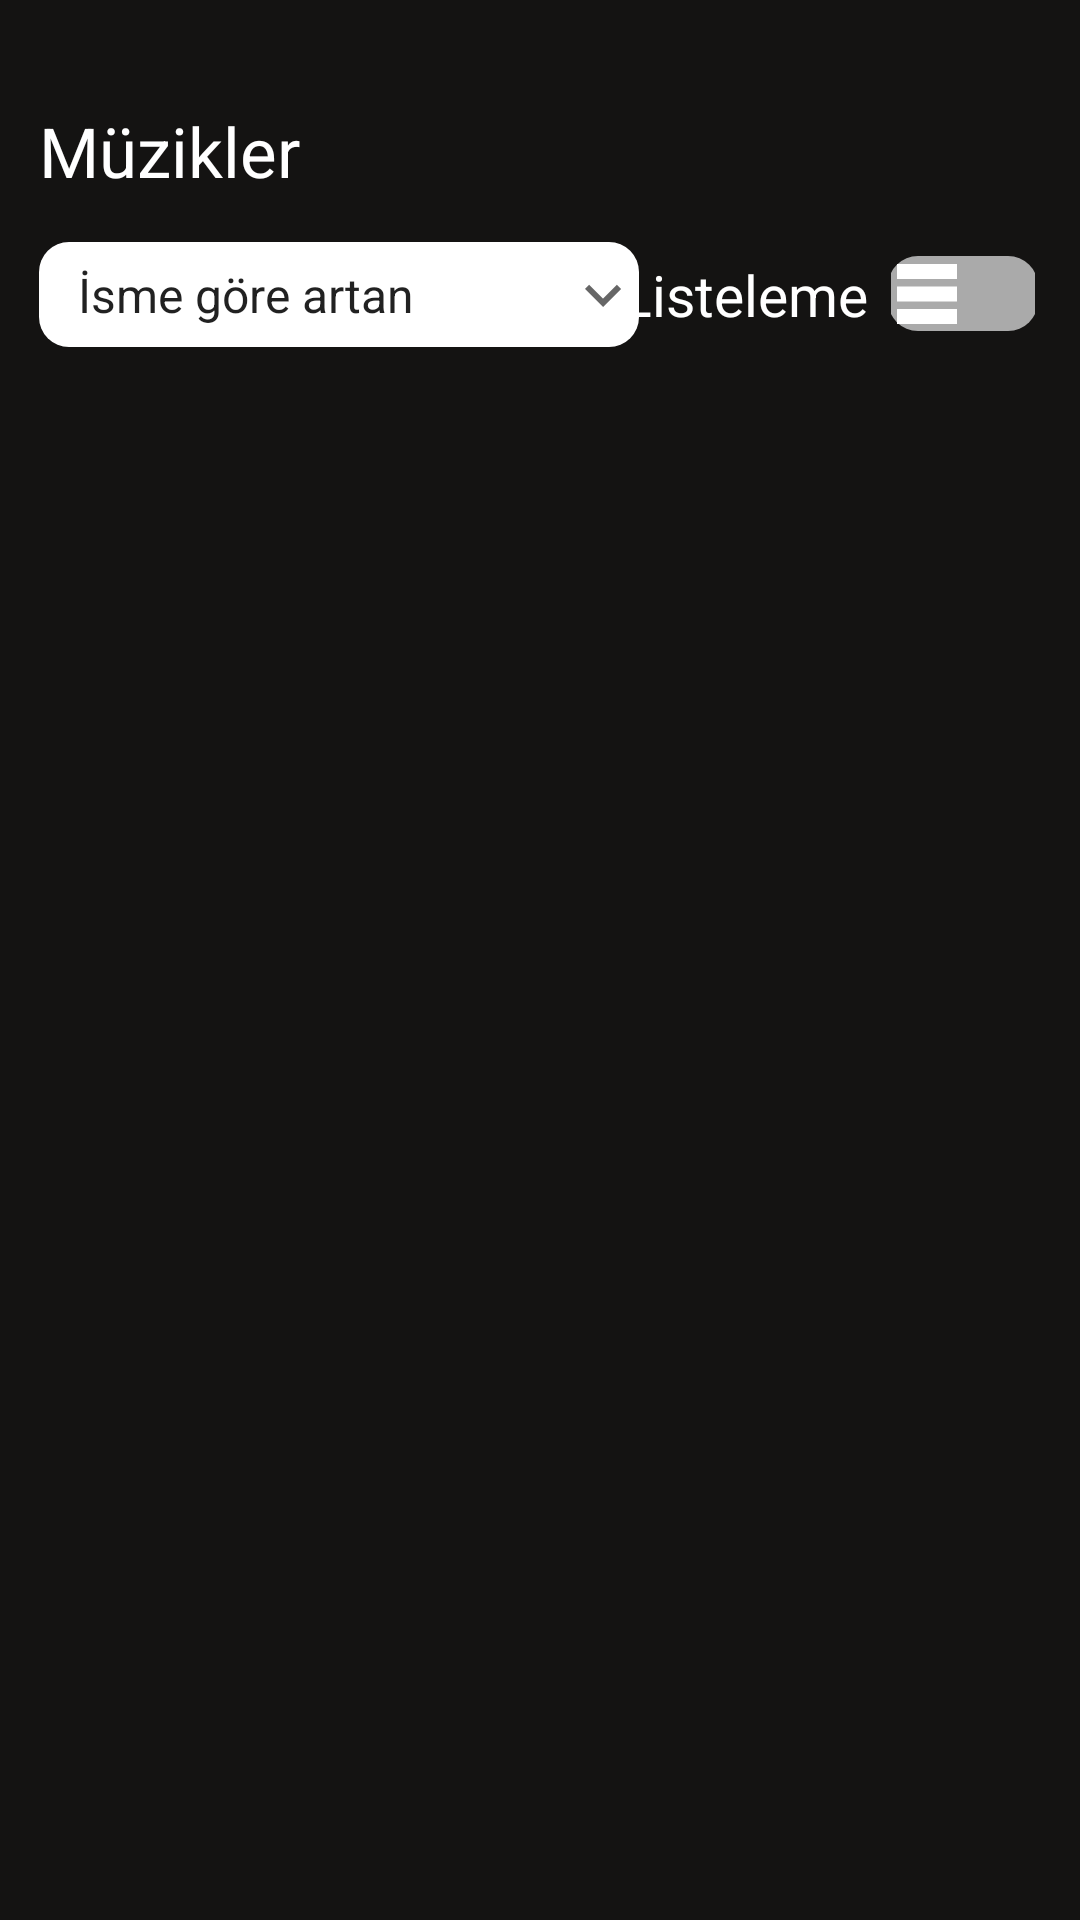

Named icons in this screenshot (1080×1920) and their centers, [x,y]:
keyboard arrow down: [603,296]
